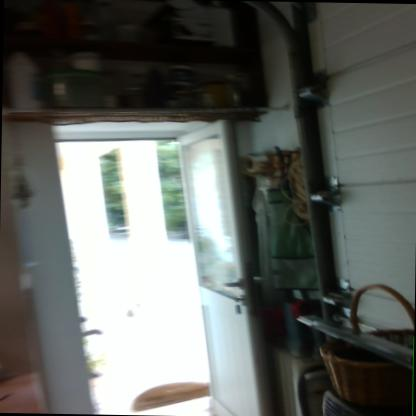open: (7, 107, 261, 415)
